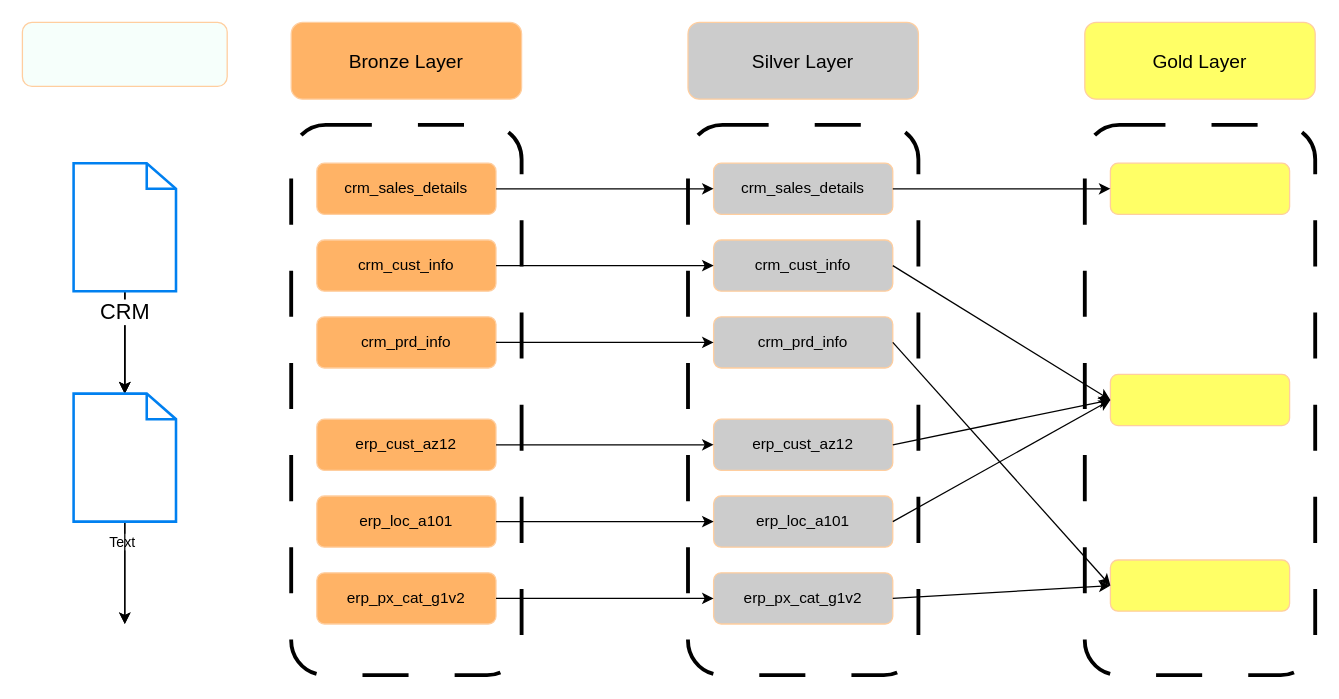
The diagram is 1339 pixels wide and 699 high, and some of its shapes have lost their labels. The shapes that lost their labels are listed below. From the top down, each one's centre as x and y in pixels, then its label:
At point 124,53: "Source".
At point 1199,188: "fact_sales".
At point 1199,399: "dim_customers".
At point 124,457: "ERP".
At point 1199,585: "dim_products".
